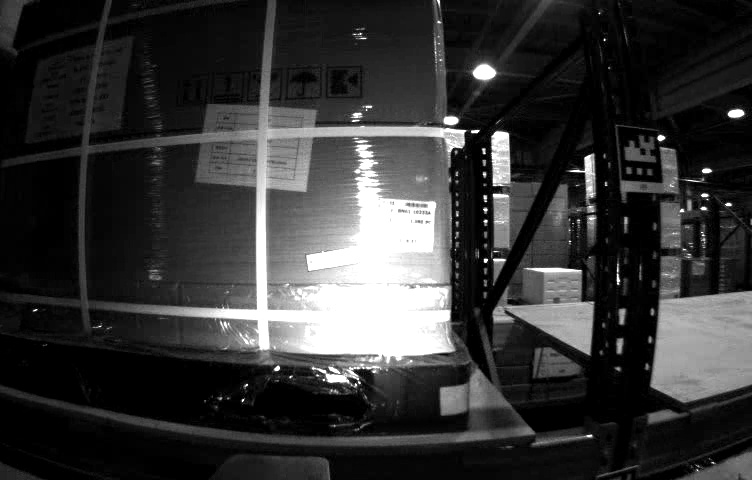True Barcode: (369, 195, 436, 255)
